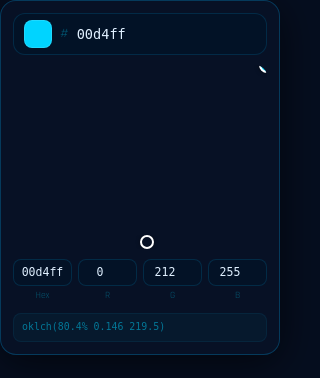
it: ColorPicker › HEX输入 › should limit to 6 characters
Replace the text in the field showing "00d4ff" with "AABBCCDD" at coordinates (166, 34), box [77,24,256,44]
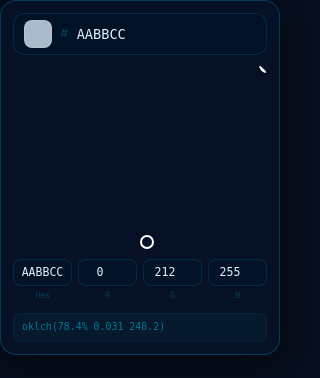
Expected: the field showing "00d4ff" holds "AABBCC", [77,24,256,44]
